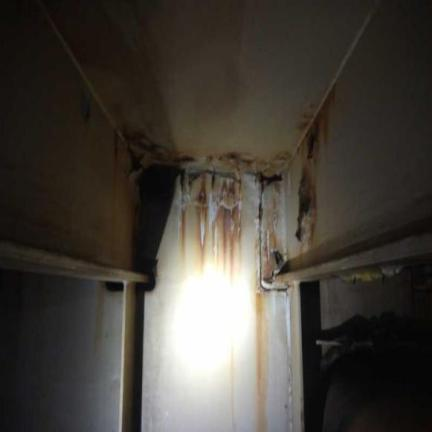besi_tidak_karat: (45, 0, 374, 161), (141, 171, 291, 431), (288, 3, 431, 268), (0, 2, 135, 268), (0, 269, 122, 431), (0, 239, 149, 282)
karat: (181, 173, 242, 279), (135, 165, 179, 272), (255, 183, 271, 431), (123, 133, 196, 167), (295, 175, 311, 241), (307, 122, 318, 158), (234, 155, 252, 164)
